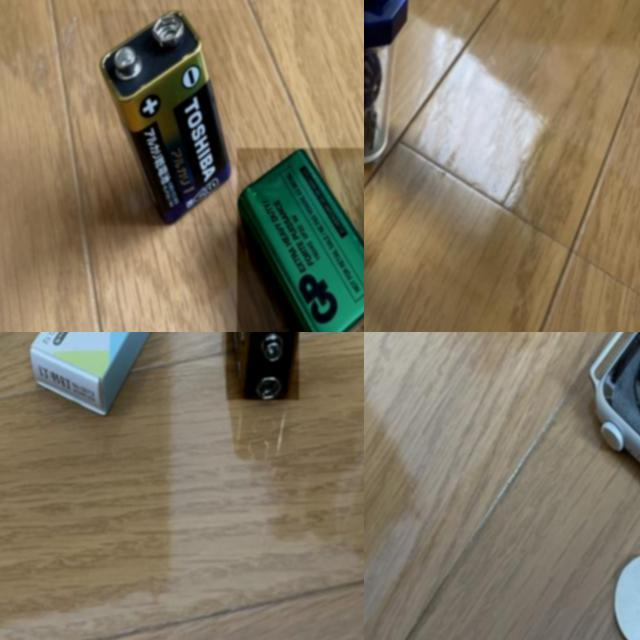9V: (98, 10, 231, 226), (237, 148, 364, 332), (226, 332, 299, 400)
